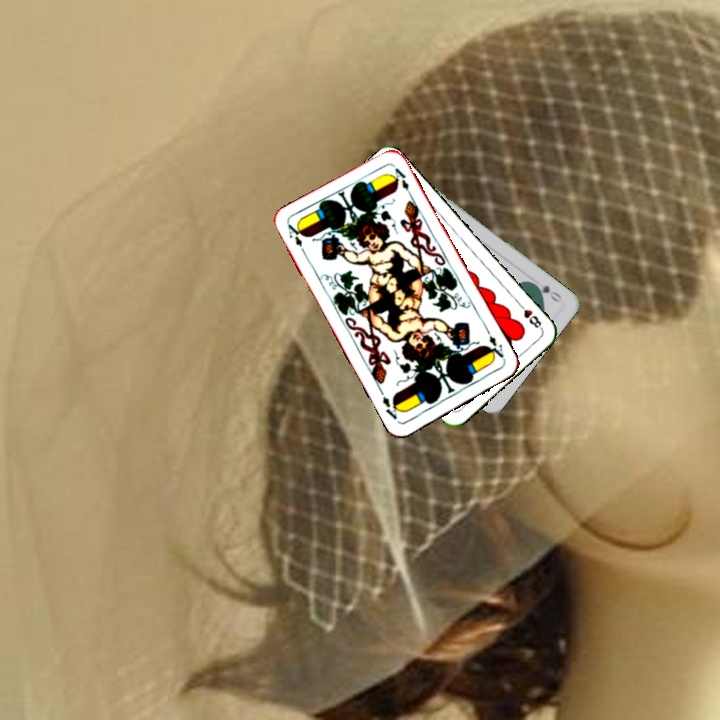EA: (483, 331, 506, 362), (284, 220, 306, 250)
GO: (528, 279, 564, 305)
H8: (514, 299, 545, 332)
